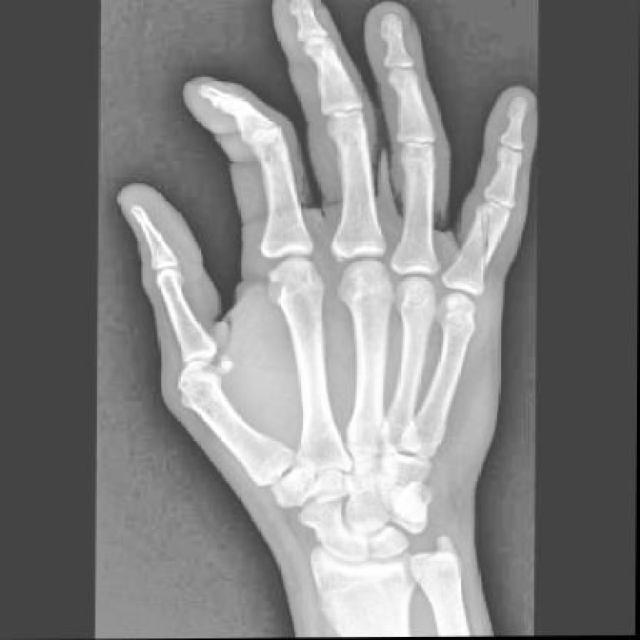Fracture: (461, 202, 504, 279)
